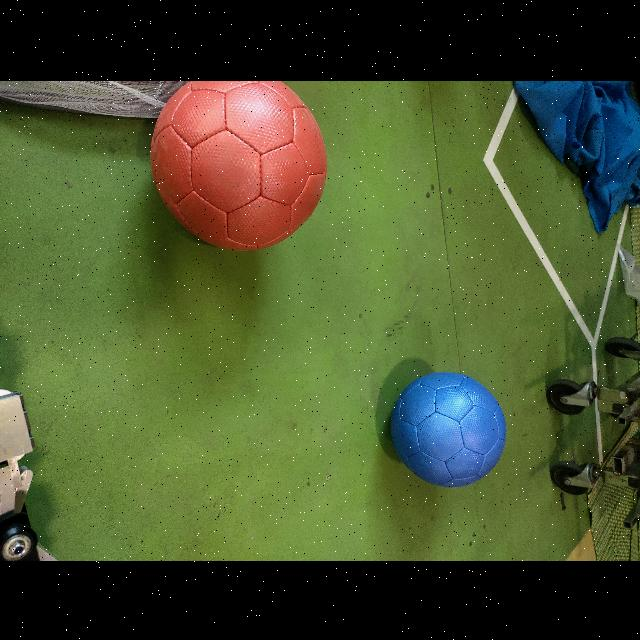B: (389, 372, 506, 486)
R: (150, 80, 330, 250)
